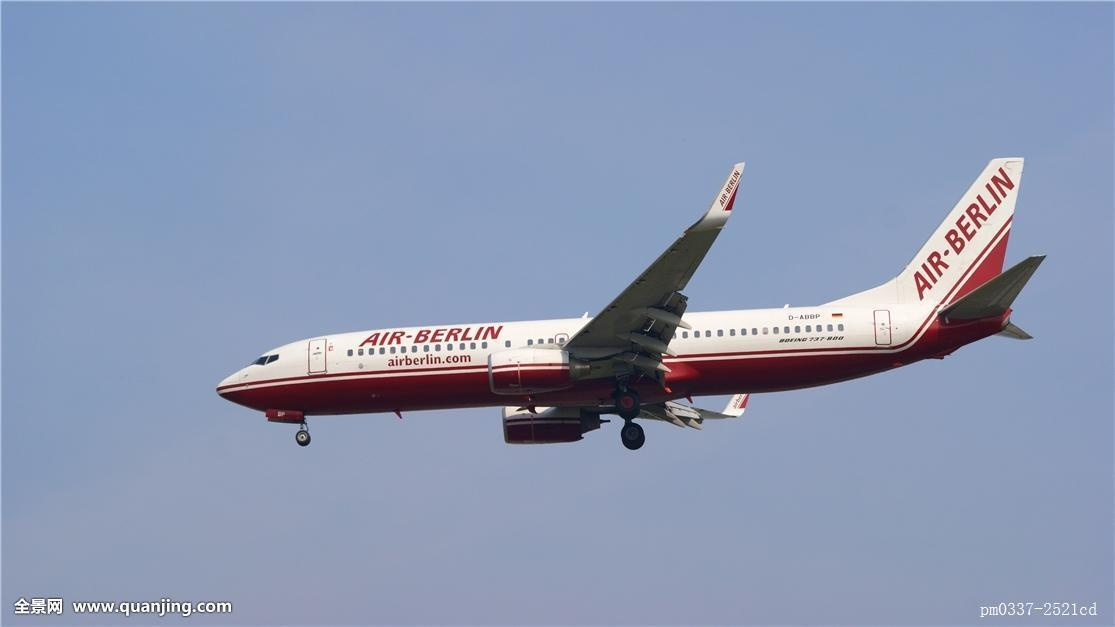airplane: (212, 149, 1043, 450)
